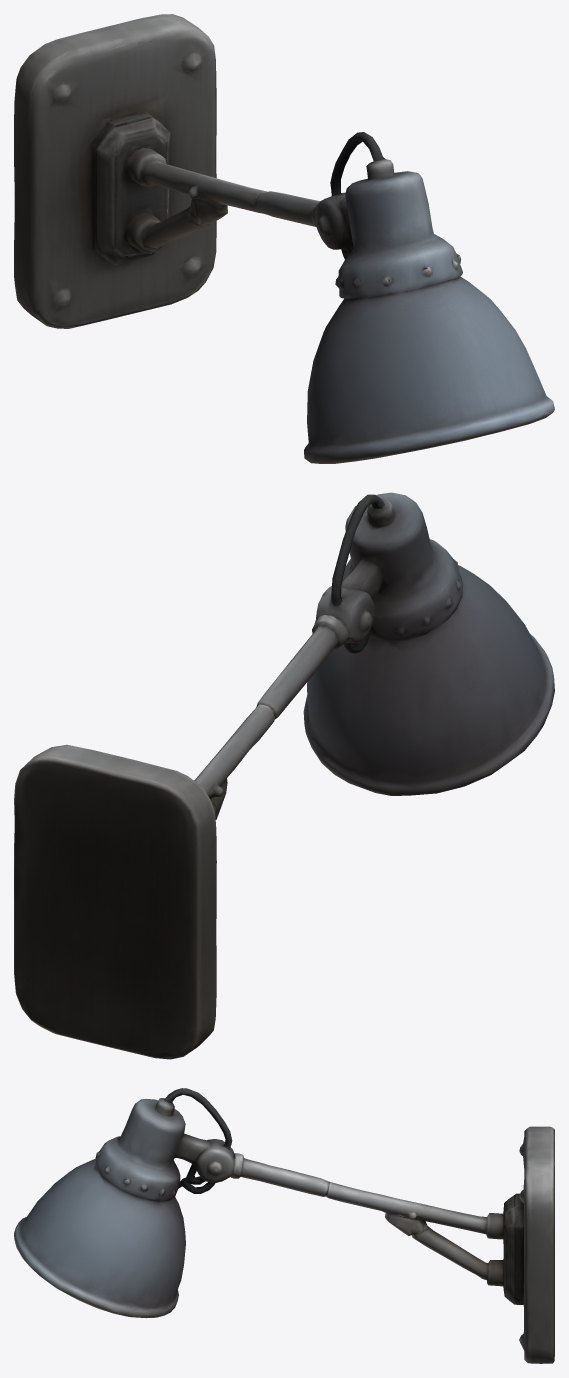
The model's file is facultyoffice_DeskLamp.glb.
3 views of the same model, one above another, from view 1: azimuth 30°, elevation 25°; view 2: azimuth 150°, elevation 25°; view 3: azimuth 270°, elevation 25° (orthographic). The views are drawn at different scales.
Parts seen in each view (by area): view 1: world; view 2: world; view 3: world.
Part boxes in pixels (left/top/right/bottom): world: left=14, top=14, right=554, bottom=463; world: left=14, top=492, right=554, bottom=1059; world: left=14, top=1088, right=554, bottom=1363.
Bounding box in the file's own units: 0.3353 × 0.5209 × 1.
1 material, 1 textured.
